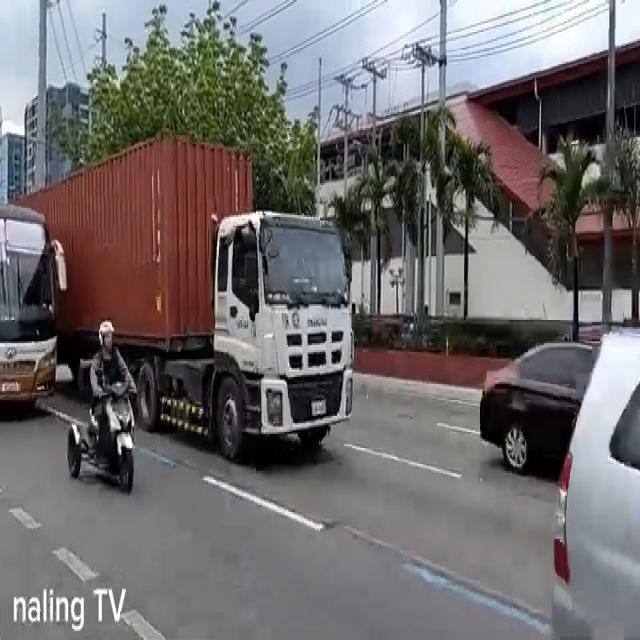bus: (0, 204, 65, 425)
car: (478, 339, 604, 477)
motorcycle: (89, 316, 138, 498)
truck: (22, 134, 356, 463)
